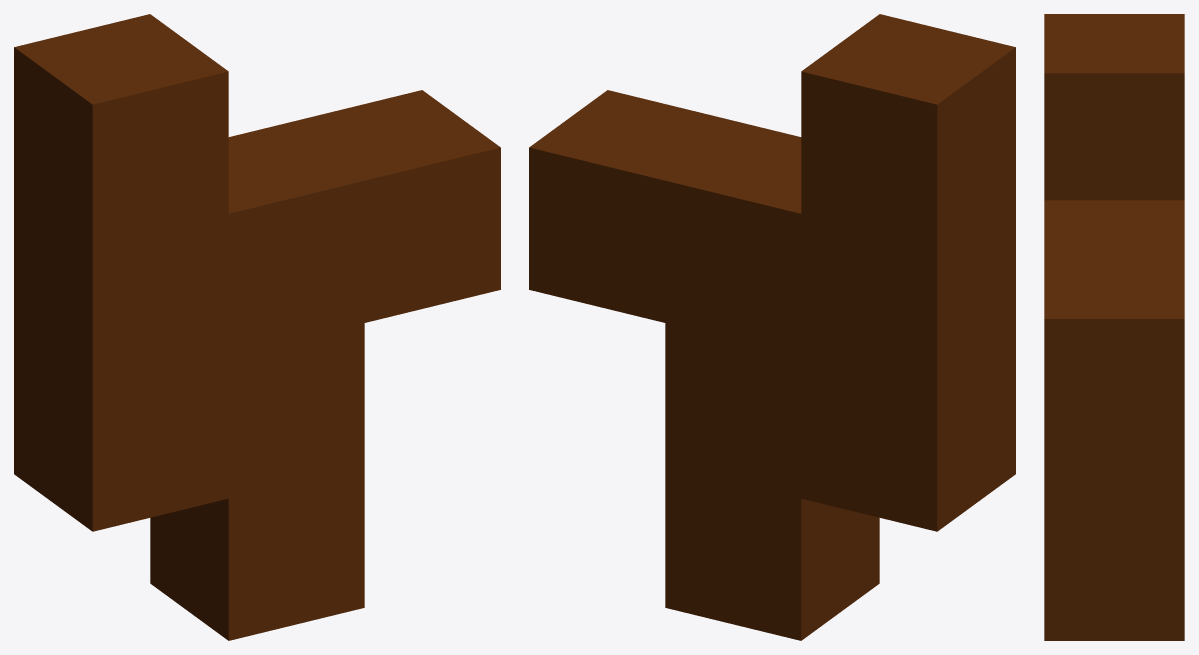
File: Thompson_Wood.dae
3 views of the same model, side by side, from view 1: azimuth 30°, elevation 25°; view 2: azimuth 150°, elevation 25°; view 3: azimuth 270°, elevation 25° (orthographic). The views are drawn at different scales.
Parts seen in each view (by area): view 1: Thompson_Wood; view 2: Thompson_Wood; view 3: Thompson_Wood.
Part boxes in pixels (bbox=[...]): Thompson_Wood: bbox=[14, 14, 500, 640]; Thompson_Wood: bbox=[529, 14, 1015, 640]; Thompson_Wood: bbox=[1044, 14, 1184, 640].
Bounding box in the file's own units: 0.3 × 0.4 × 0.1.
Materials: 1 (1 with a texture image).
